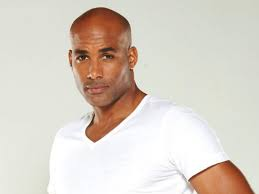person: (67, 6, 138, 110)
